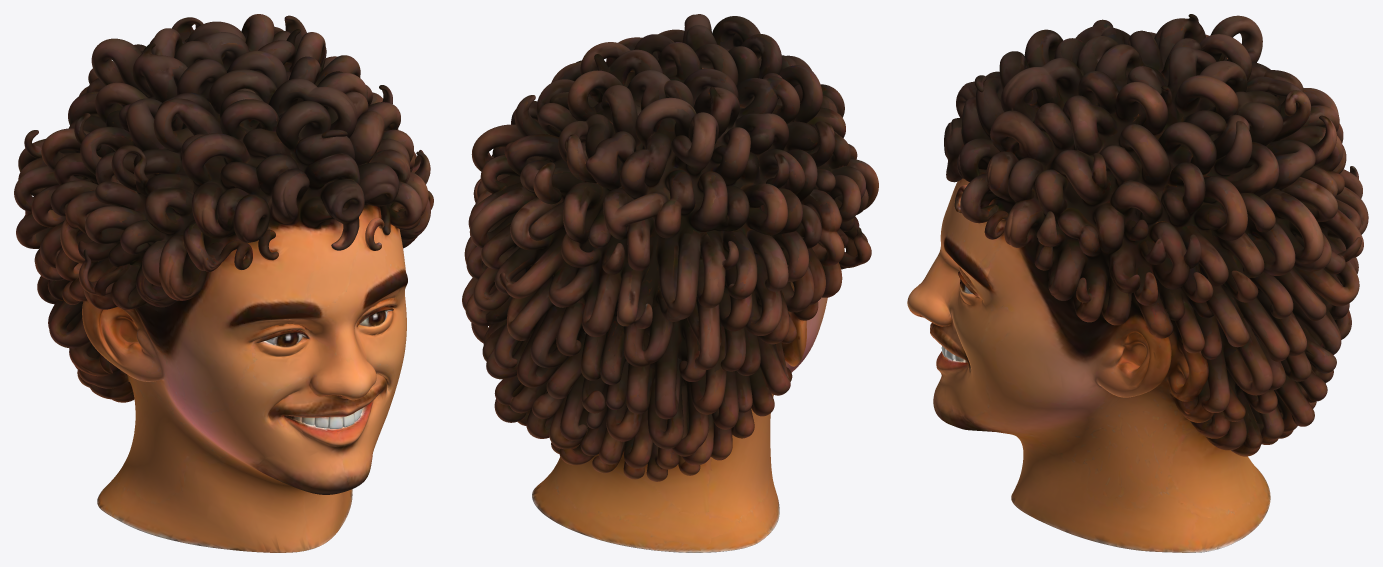
Rendered from lenny.glb.
The picture shows the model from 3 angles, left to right: view 1: azimuth 30°, elevation 25°; view 2: azimuth 150°, elevation 25°; view 3: azimuth 270°, elevation 25°; orthographic projection. The views are drawn at different scales.
Visible parts, largest first — view 1: node_0; view 2: node_0; view 3: node_0.
Boxes of the visible parts, x1,y1,x2,y2 form: node_0: (14,14,433,552); node_0: (462,14,878,552); node_0: (907,14,1368,552).
Bounding box in the file's own units: 0.8592 × 1.05 × 0.9603.
Materials: 1 (1 with a texture image).
